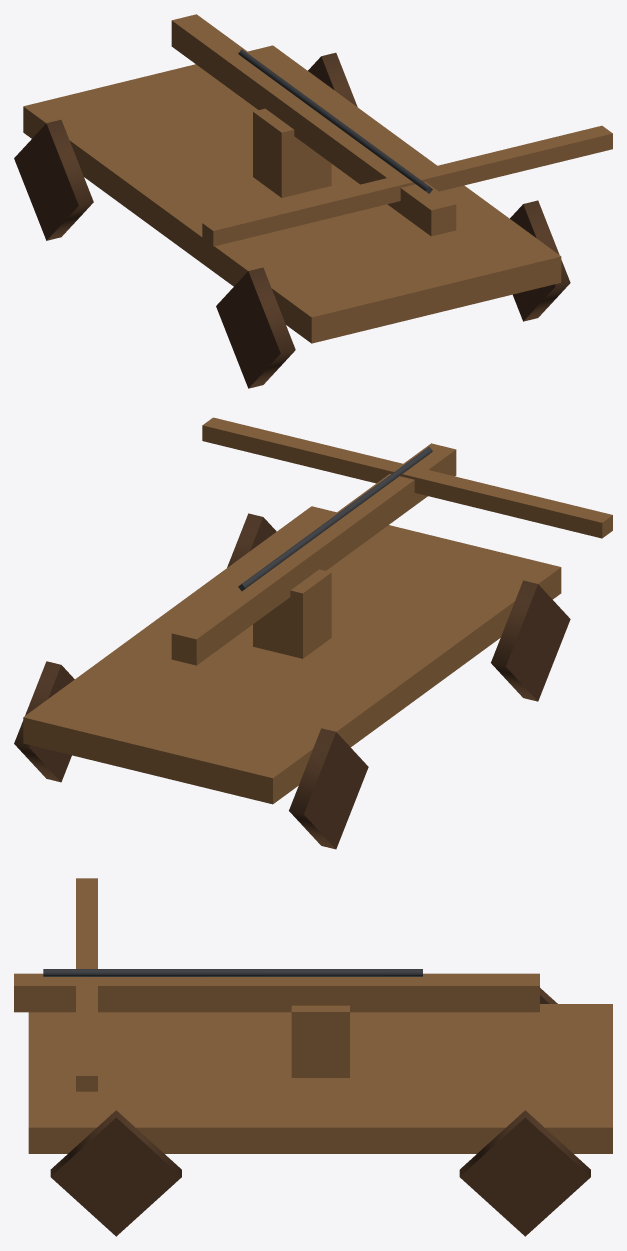
Rendered from unit_mil_ballista_a02_lod2.glb.
3 views of the same model, one above another, from view 1: azimuth 30°, elevation 25°; view 2: azimuth 150°, elevation 25°; view 3: azimuth 270°, elevation 25° (orthographic).
Parts seen in each view (by area): view 1: body, wheel_0, wheel_2, wheel_3, wheel_1; view 2: body, wheel_0, wheel_2, wheel_1, wheel_3; view 3: body, wheel_3, wheel_1.
Boxes of the visible parts, left/top/right/bottom form: body: left=23, top=14, right=612, bottom=343; wheel_0: left=14, top=119, right=93, bottom=240; wheel_2: left=216, top=267, right=295, bottom=388; wheel_3: left=510, top=200, right=570, bottom=321; wheel_1: left=308, top=52, right=357, bottom=106; body: left=23, top=417, right=612, bottom=804; wheel_0: left=289, top=728, right=368, bottom=849; wheel_2: left=491, top=580, right=570, bottom=701; wheel_1: left=14, top=661, right=74, bottom=782; wheel_3: left=227, top=513, right=276, bottom=567; body: left=14, top=878, right=612, bottom=1153; wheel_3: left=50, top=1110, right=181, bottom=1236; wheel_1: left=459, top=1110, right=590, bottom=1236.
Bounding box in the file's own units: 3.2 × 1.48 × 4.1.
